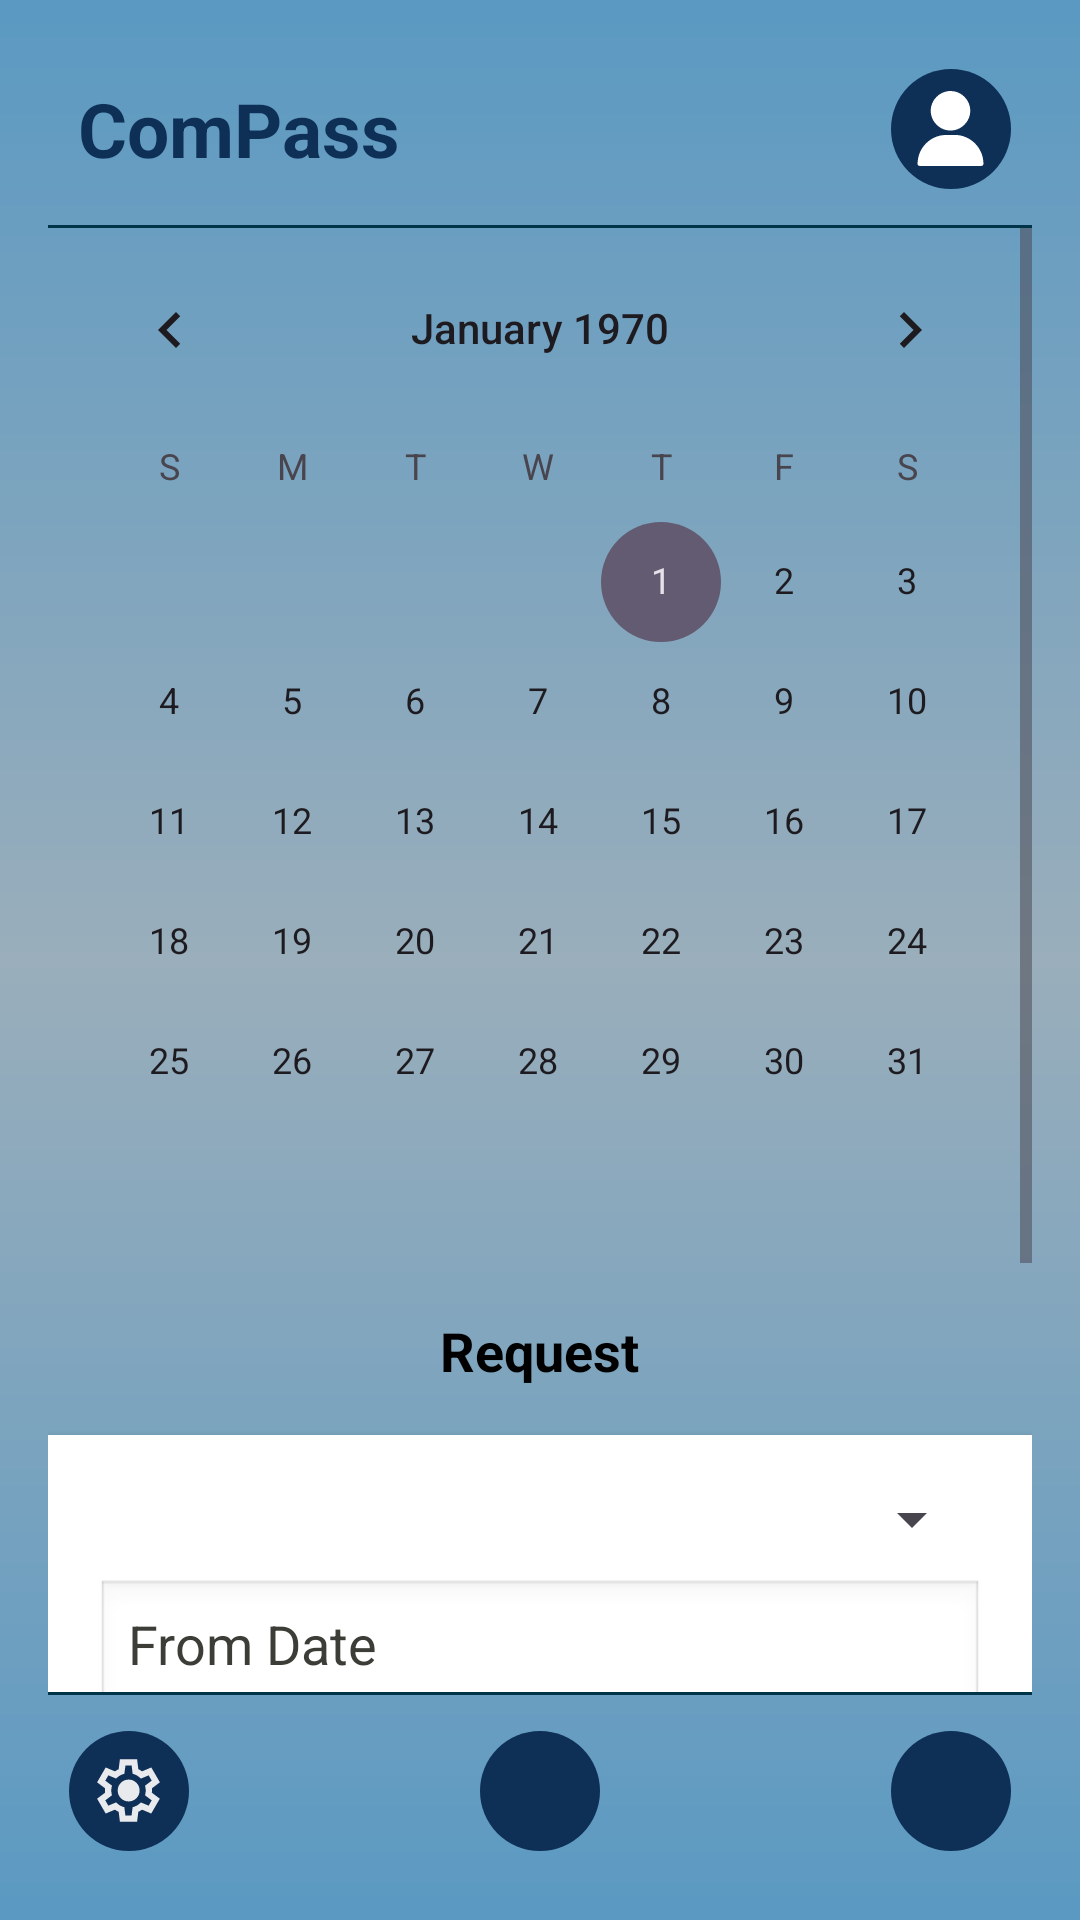

Locate icon controls on the screen. Image size 1080 x 1920, boxes as (x1, y1, x2, y2).
settings: (97, 1759, 160, 1822)
user: (917, 91, 984, 166)
